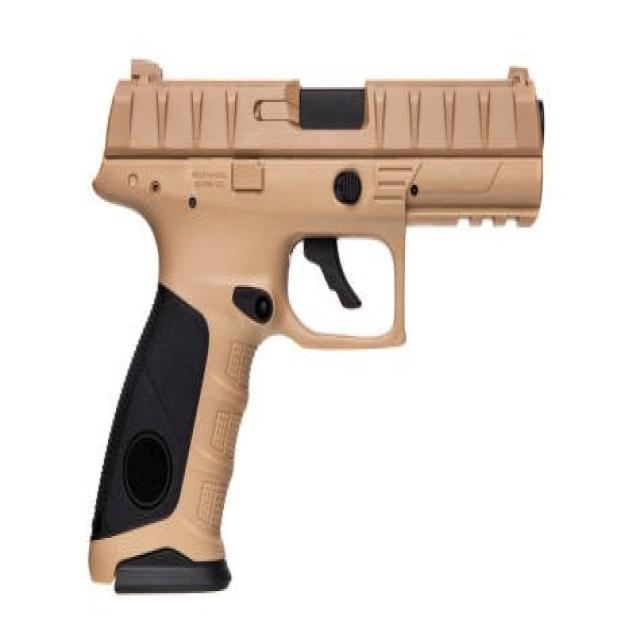pistol: (83, 54, 549, 599)
